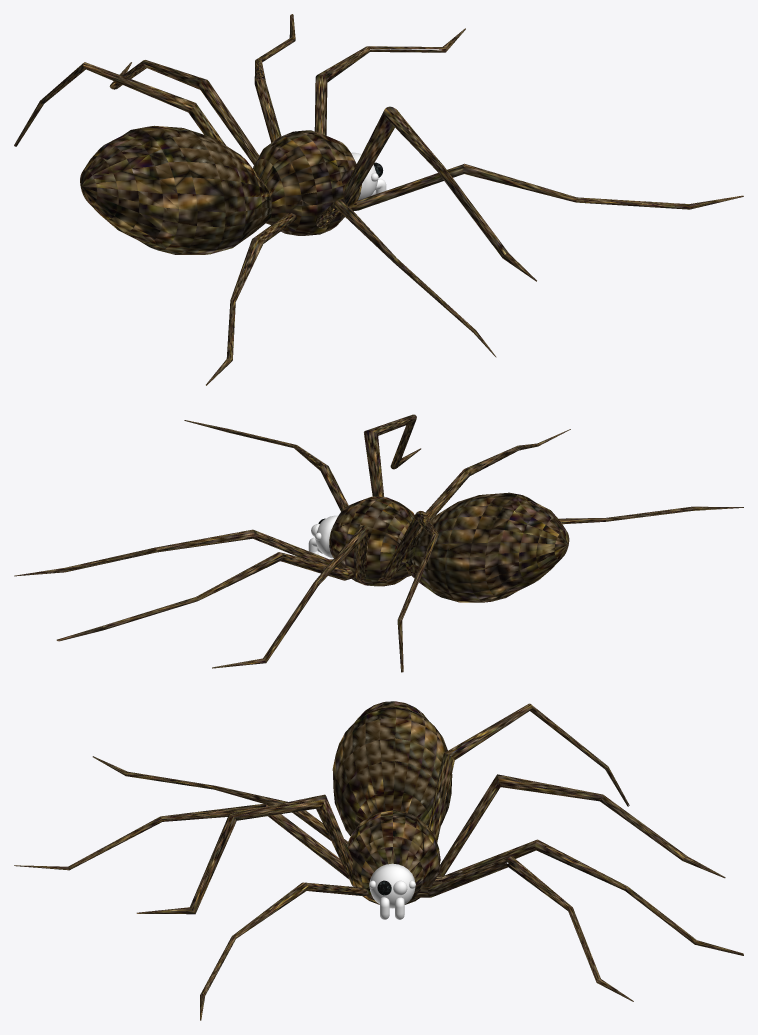
The model's file is spider.fbx.
3 views of the same model, one above another, from view 1: azimuth 30°, elevation 25°; view 2: azimuth 150°, elevation 25°; view 3: azimuth 270°, elevation 25° (orthographic). The views are drawn at different scales.
Visible parts, largest first — view 1: Model; view 2: Model; view 3: Model.
Boxes of the visible parts, x1,y1,x2,y2 form: Model: (14,14,743,385); Model: (14,414,743,672); Model: (14,701,743,1020).
Size of the model in its own units: 300 by 71.33 by 351.
